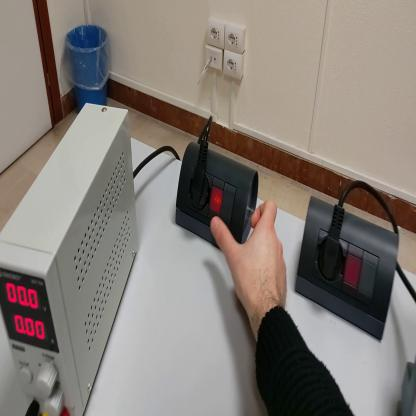hand: (211, 200, 289, 316)
oscilloscope: (398, 355, 416, 415)
power supply: (2, 104, 135, 415)
socket: (293, 196, 400, 342), (176, 143, 260, 254)
